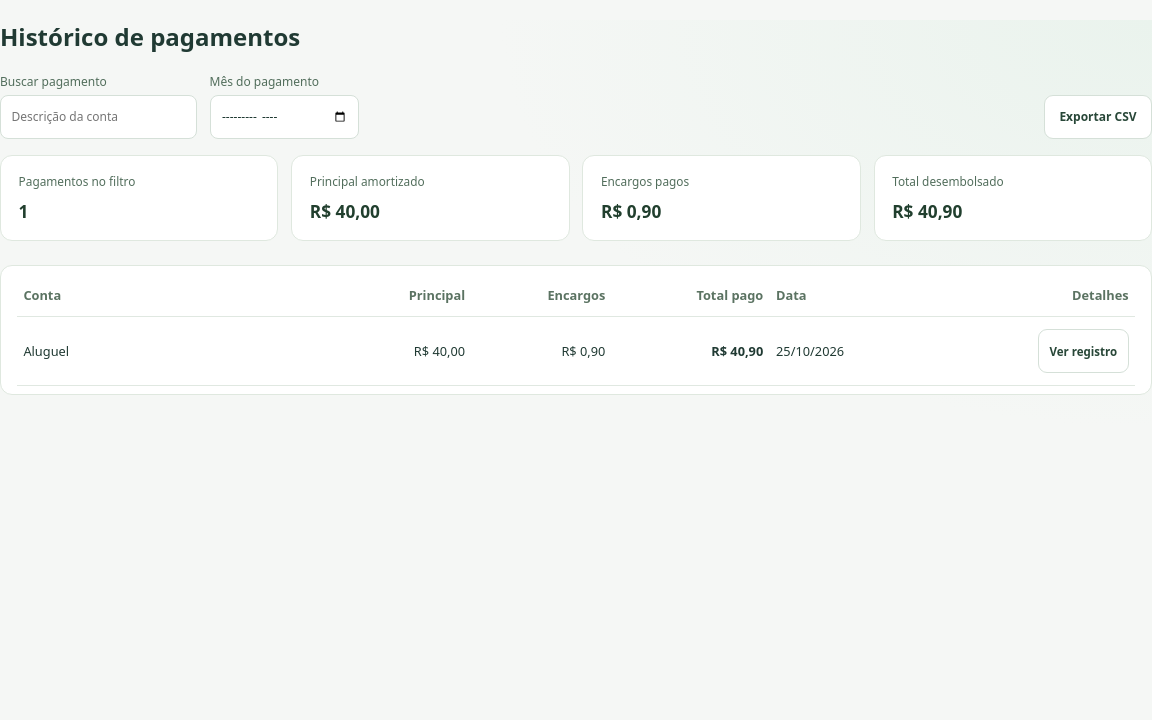
histórico oferece consulta e abre registro detalhado
Click the button "Ver registro": [1083, 351] box [1038,329,1129,373]
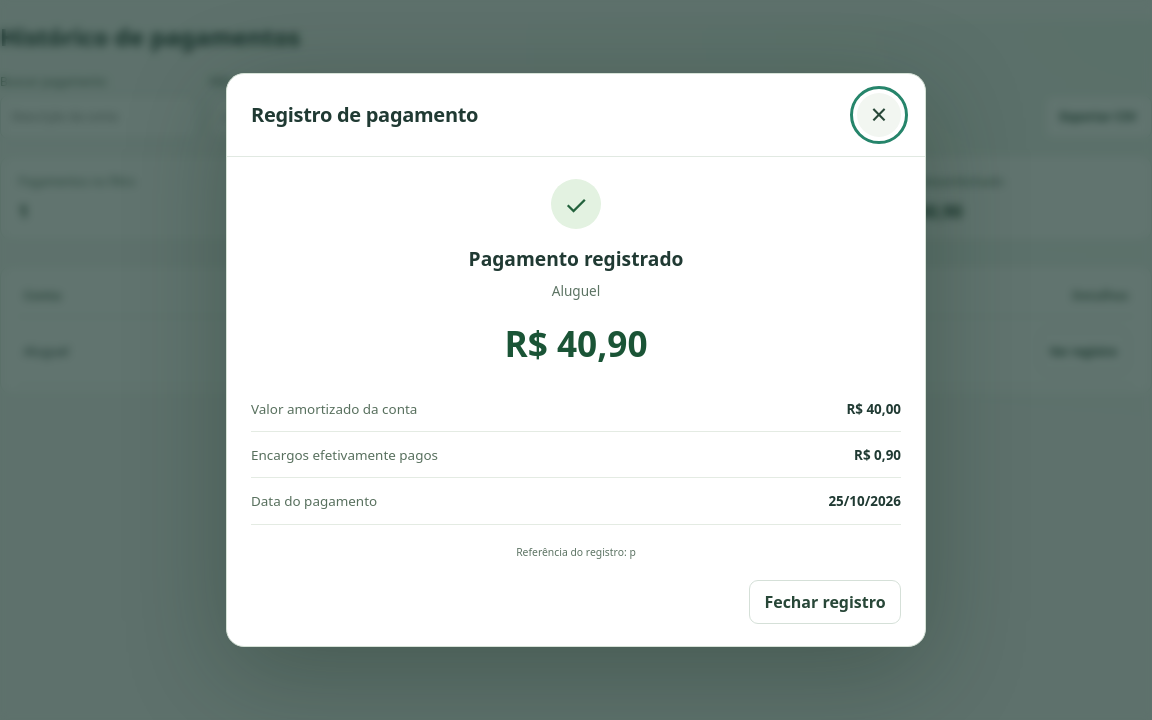
Expected: the text "40,90" is shown, [892,200,962,223]
Expected: the dialog is shown, [226,73,926,648]
Expected: the text "Encargos efetivamente pagos" is shown, [251,446,438,464]
